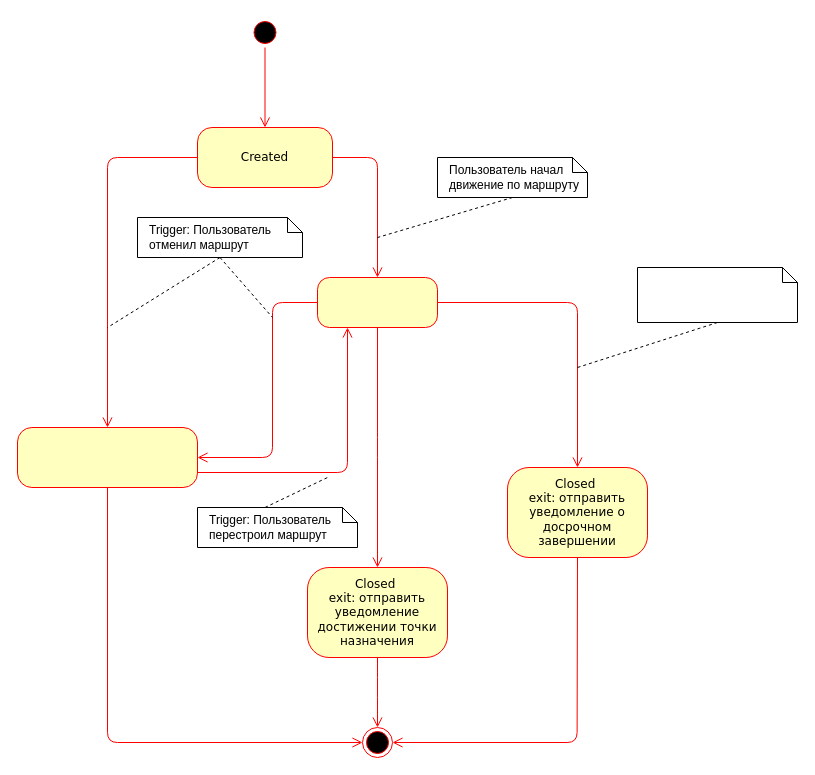
Some shapes in this 815 by 775 pixel diagram are drawn without their labels. Each missing label, with the box of its shape:
Canceled entry: удалить проложенный путь: (16, 426, 198, 488)
In progress: (316, 276, 438, 328)
Пользователь не доехал до места назначения: (636, 266, 798, 322)
